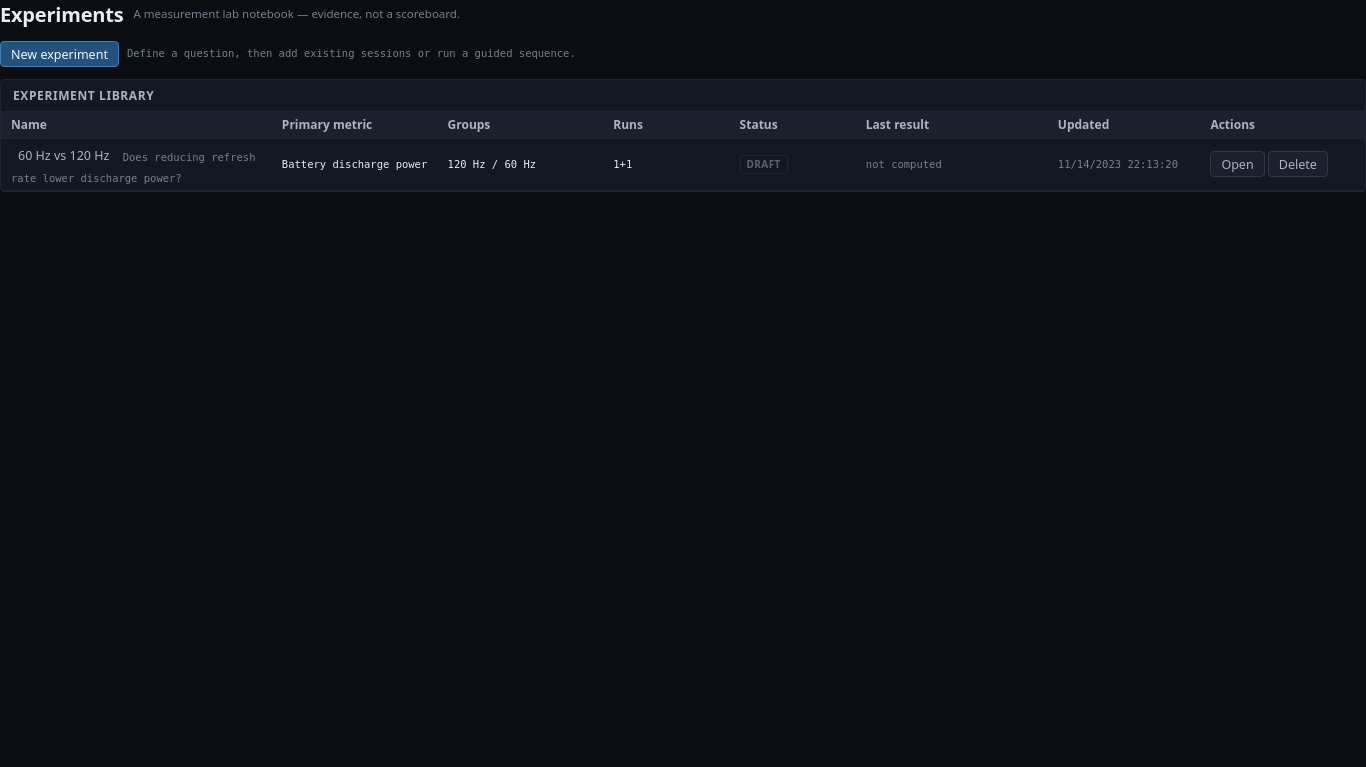
Test: ExperimentsPage › lists experiments and opens the detail view
Click the button "60 Hz vs 120 Hz" at (64, 156), box [11,143,116,169]
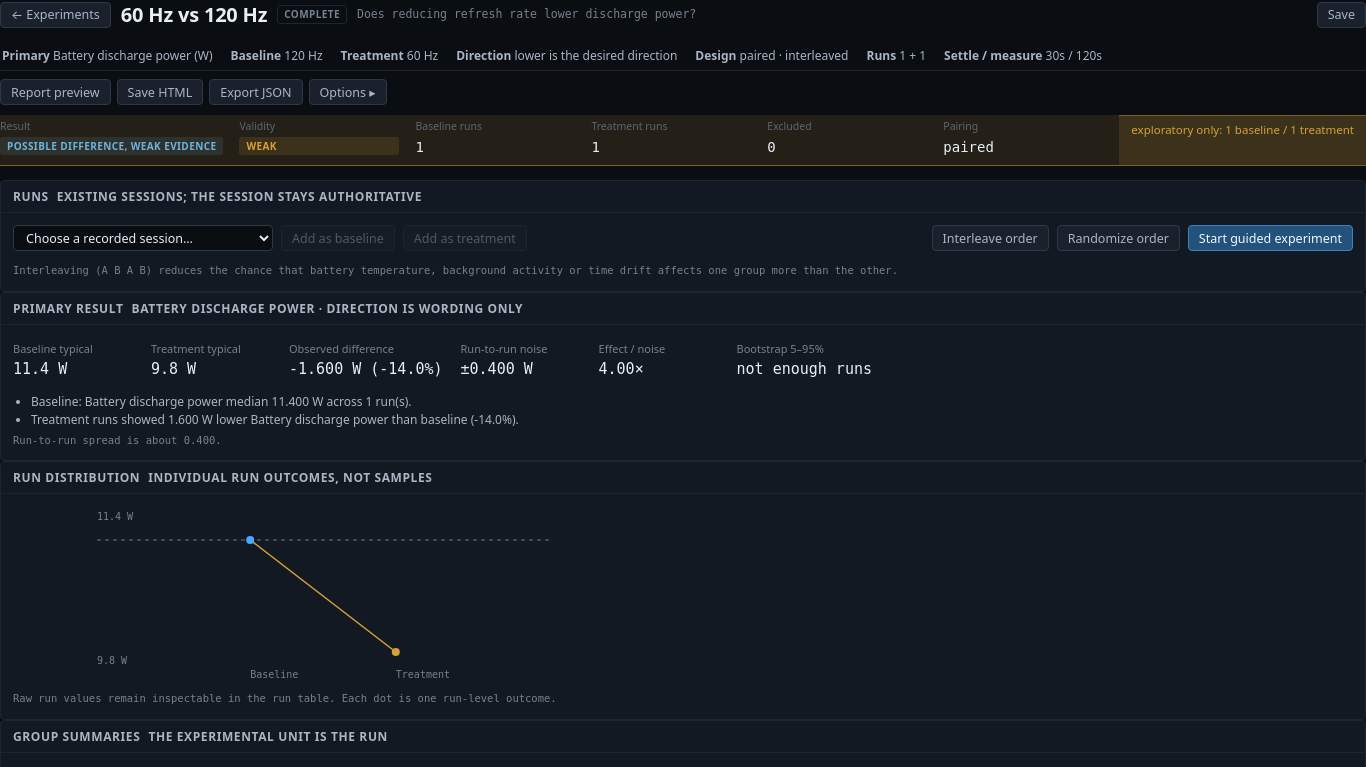
Now the text "Primary result" is shown, box [13,300,124,316]
Now the text "Primary Battery discharge power (W)" is shown, box [2,47,212,64]
